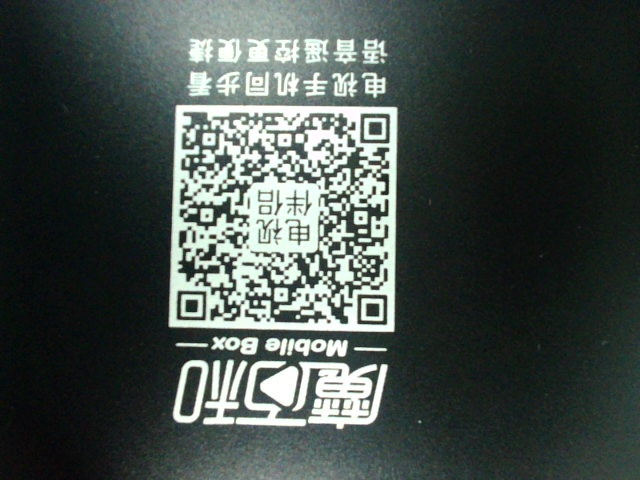AZ_MobileBox: (166, 31, 403, 430)
